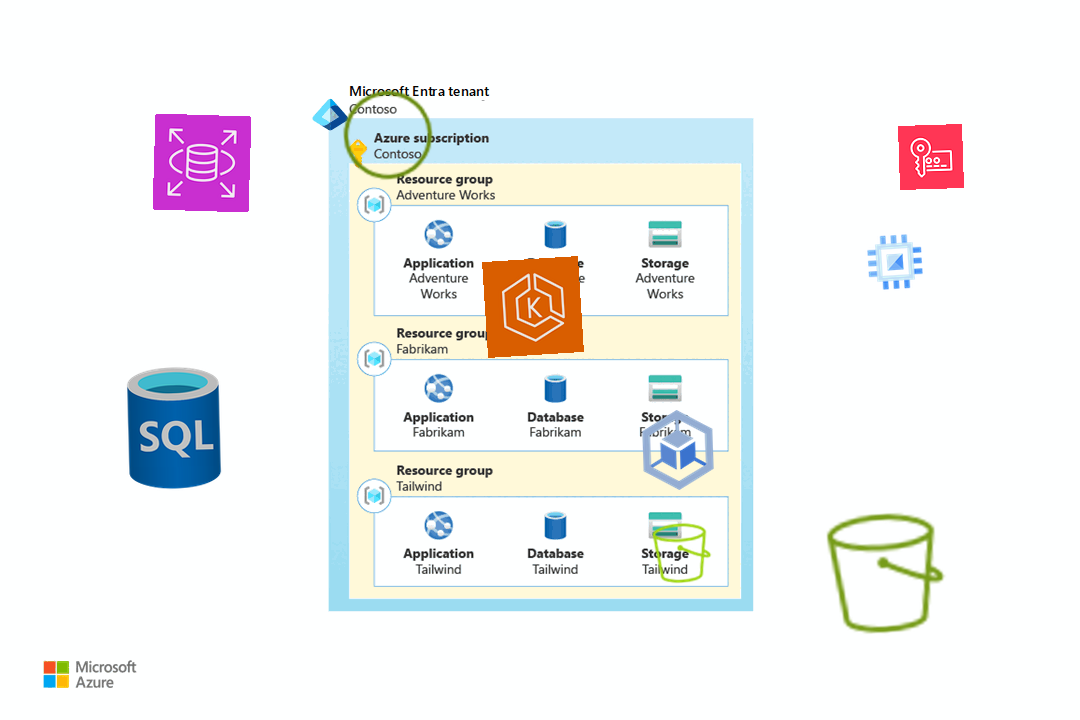aws_amazon_elastic_kubernetes_service: (482, 256, 584, 358)
aws_amazon_rds: (152, 113, 252, 213)
aws_key_management_service: (897, 123, 965, 191)
aws_simple_storage_service_bucket: (648, 519, 716, 587)
aws_simple_storage_service_object: (336, 83, 440, 187)
aws_simple_storage_service_s3_standard: (817, 504, 955, 642)
azure_sql_database: (108, 362, 240, 494)
gcp_compute_engine: (861, 228, 929, 296)
gcp_google_kubernetes_engine: (628, 400, 728, 500)
